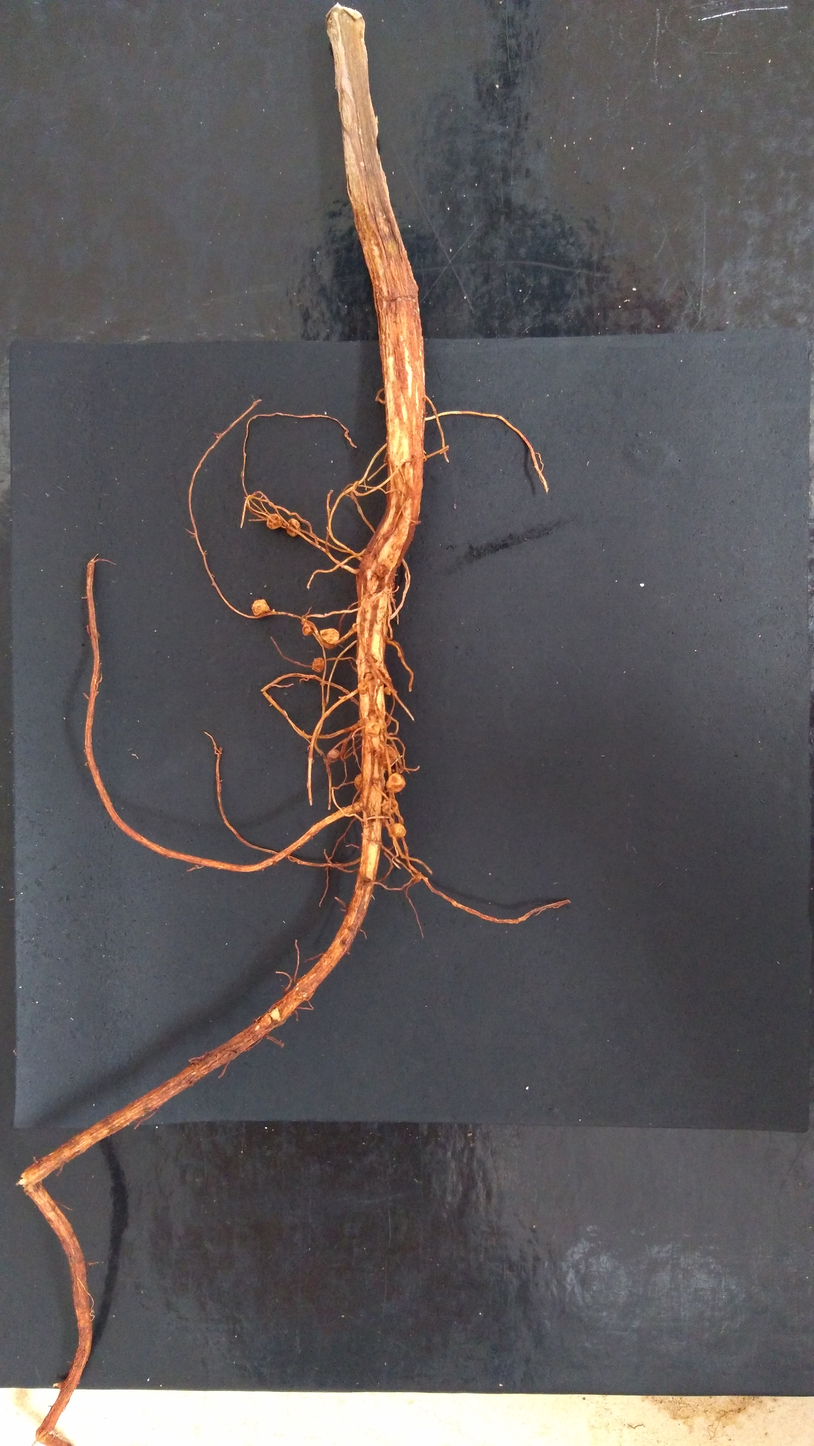nodule: (384, 771, 407, 795), (380, 745, 398, 768), (251, 598, 272, 617), (319, 627, 341, 645), (381, 797, 399, 817), (286, 517, 302, 539), (265, 512, 283, 531), (375, 556, 391, 577), (388, 823, 407, 839), (311, 655, 326, 674), (364, 721, 380, 738), (352, 772, 363, 793), (326, 747, 341, 762), (301, 622, 315, 636), (356, 681, 369, 695), (383, 686, 392, 696), (352, 622, 358, 633)
